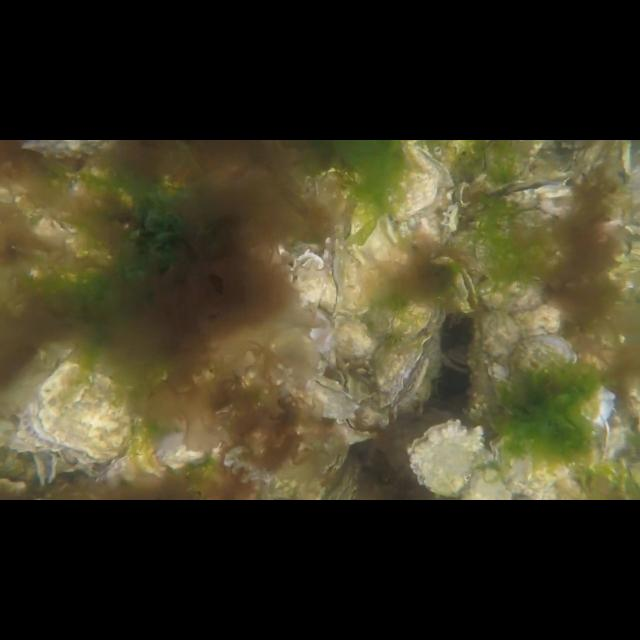Oyster-Closed: (512, 334, 618, 426), (490, 428, 570, 496), (348, 199, 404, 289), (476, 309, 522, 407), (384, 140, 440, 220), (278, 376, 360, 426), (477, 272, 548, 314), (332, 316, 374, 378), (339, 245, 368, 318), (460, 464, 514, 500), (158, 434, 206, 470), (0, 417, 38, 453)
Oyster-Open: (28, 362, 130, 464), (407, 418, 485, 496), (486, 177, 580, 231), (376, 336, 432, 406), (390, 298, 448, 344), (288, 250, 324, 306), (323, 237, 342, 316), (334, 416, 380, 446), (316, 362, 352, 400), (454, 268, 480, 314), (440, 342, 474, 373), (34, 447, 58, 487), (612, 140, 632, 186), (324, 444, 350, 478), (440, 202, 460, 234)
